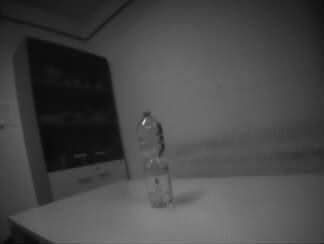Bottle: (136, 110, 175, 208)
